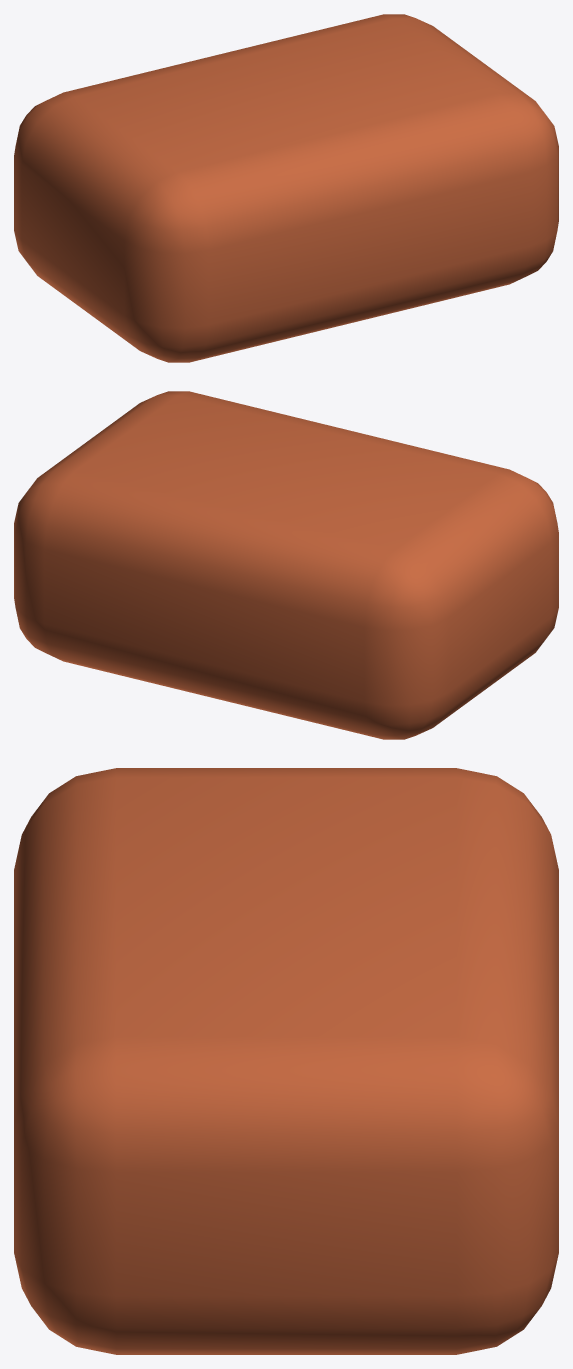
The model's file is diamond_core_drill_rig_motor_switch.glb.
3 views of the same model, one above another, from view 1: azimuth 30°, elevation 25°; view 2: azimuth 150°, elevation 25°; view 3: azimuth 270°, elevation 25° (orthographic). The views are drawn at different scales.
Visible parts, largest first — view 1: diamond_core_drill_rig_motor_switch; view 2: diamond_core_drill_rig_motor_switch; view 3: diamond_core_drill_rig_motor_switch.
Boxes of the visible parts, box(x1,y1,x2,y2) form: diamond_core_drill_rig_motor_switch: box(14, 14, 558, 362); diamond_core_drill_rig_motor_switch: box(14, 391, 558, 739); diamond_core_drill_rig_motor_switch: box(14, 768, 558, 1354).
Bounding box in the file's own units: 0.024 × 0.01 × 0.016.
